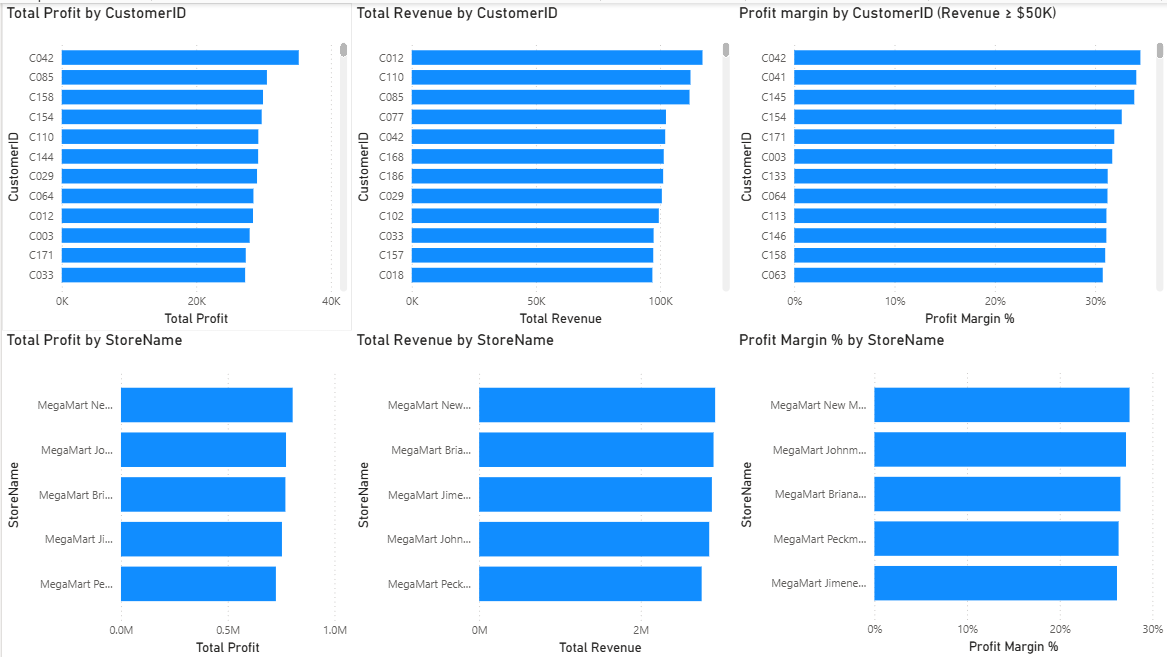

What the dashboard file says about the page in this screenshot:
{"tool":"powerbi","page":{"name":"customer and store sales analytics","canvas":[1280,720],"ordinal":2},"visuals":[{"type":"clusteredBarChart","fields":{"Category":["customers.CustomerID"],"Y":["transactions.Total Profit"]},"box":[0,0,384.2,359.5],"z":0},{"type":"clusteredBarChart","fields":{"Category":["customers.CustomerID"],"Y":["transactions.Total Revenue"]},"box":[384.2,0,419.9,359.5],"z":1000},{"type":"clusteredBarChart","fields":{"Category":["stores.StoreName"],"Y":["transactions.Total Revenue"]},"box":[384.2,359.5,419.9,360.9],"z":2000},{"type":"clusteredBarChart","title":"Profit margin by CustomerID (Revenue ≥ $50K)","fields":{"Category":["customers.CustomerID"],"Y":["transactions.Profit Margin %"]},"box":[804.1,0,476.2,359.5],"z":3000},{"type":"clusteredBarChart","fields":{"Category":["stores.StoreName"],"Y":["transactions.Total Profit"]},"box":[0,359.5,384.2,360.9],"z":4000},{"type":"clusteredBarChart","fields":{"Category":["stores.StoreName"],"Y":["transactions.Profit Margin %"]},"box":[804,360,476,360],"z":5000}]}

Visuals, with their boxes in screenshot pixels (x1, y1, x2, y2), scaled from the page's 1280x720 canvas onto the 1167x657 screenshot:
clusteredBarChart - customers.CustomerID x transactions.Total Profit: {"x1": 0, "y1": 0, "x2": 350, "y2": 328}
clusteredBarChart - customers.CustomerID x transactions.Total Revenue: {"x1": 350, "y1": 0, "x2": 733, "y2": 328}
clusteredBarChart - stores.StoreName x transactions.Total Revenue: {"x1": 350, "y1": 328, "x2": 733, "y2": 656}
"Profit margin by CustomerID (Revenue ≥ $50K)" clusteredBarChart: {"x1": 733, "y1": 0, "x2": 1166, "y2": 328}
clusteredBarChart - stores.StoreName x transactions.Total Profit: {"x1": 0, "y1": 328, "x2": 350, "y2": 656}
clusteredBarChart - stores.StoreName x transactions.Profit Margin %: {"x1": 733, "y1": 328, "x2": 1166, "y2": 656}
